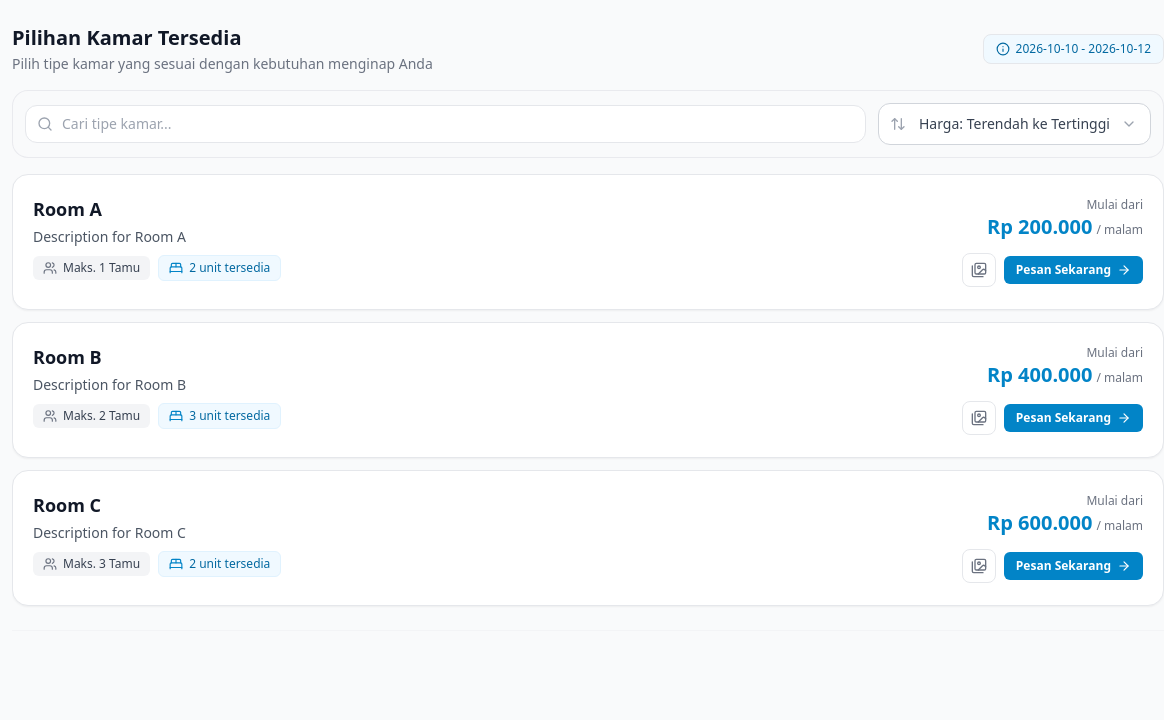
Test case: filters rooms by search query
The image size is (1164, 720).
Type "Room B" into the field with placeholder "Cari tipe kamar..." at {"x": 446, "y": 124}, box [25, 105, 866, 143]
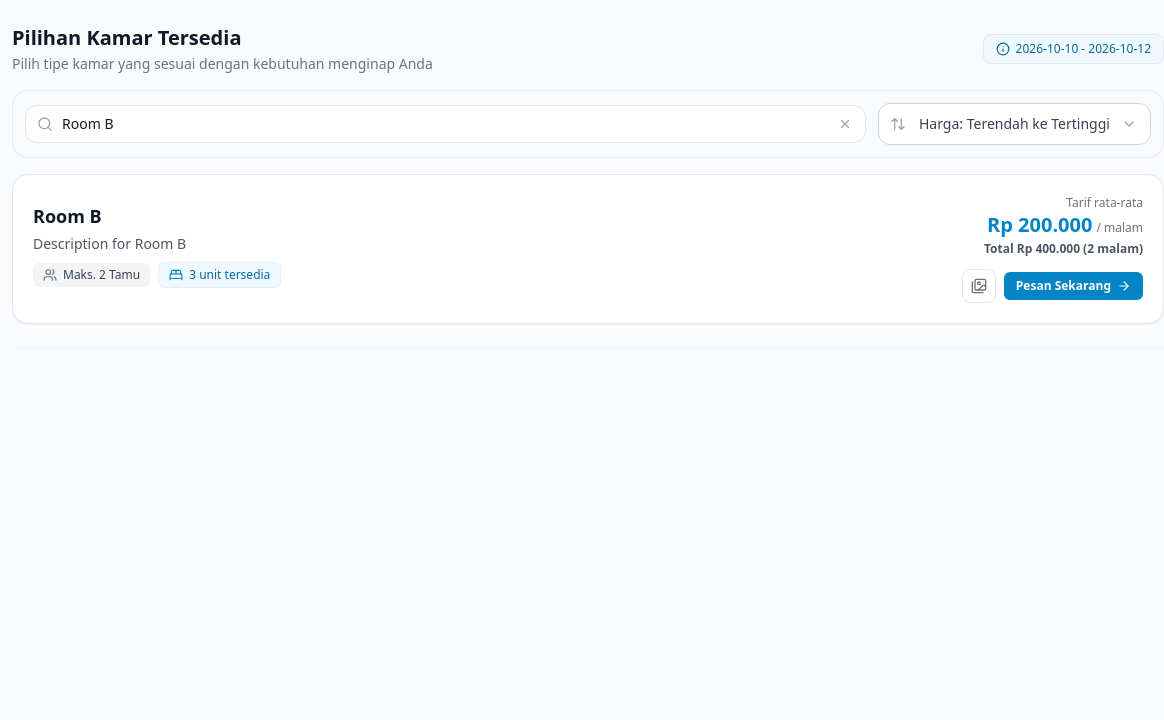
Expected: the heading "Room B" is shown, [33, 204, 102, 228]
Now the heading "Room A" is gone
Now the heading "Room C" is gone
